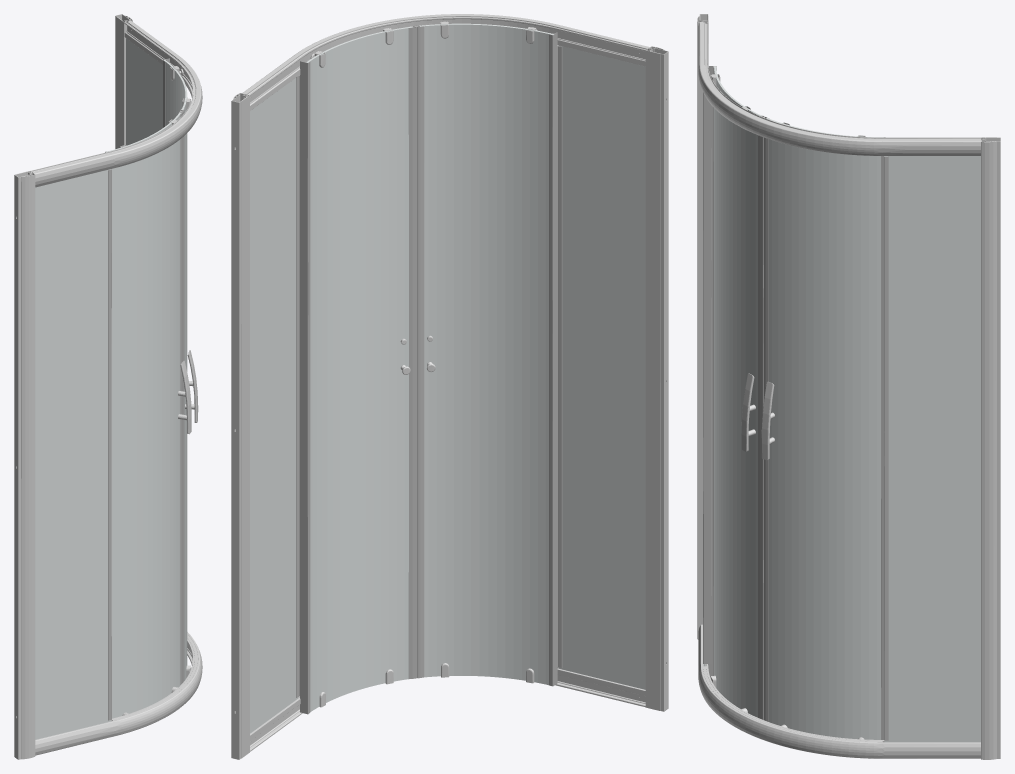
Rendered from AEC_51210.glb.
The picture shows the model from 3 angles, left to right: view 1: azimuth 30°, elevation 25°; view 2: azimuth 150°, elevation 25°; view 3: azimuth 270°, elevation 25°; orthographic projection. The views are drawn at different scales.
Parts seen in each view (by area): view 1: 0; view 2: 0; view 3: 0.
Boxes of the visible parts, x1,y1,x2,y2 form: 0: (14,14,202,759); 0: (231,14,668,759); 0: (697,14,1000,759).
Bounding box in the file's own units: 0.8905 × 2 × 0.8905.
1 material, 1 textured.
